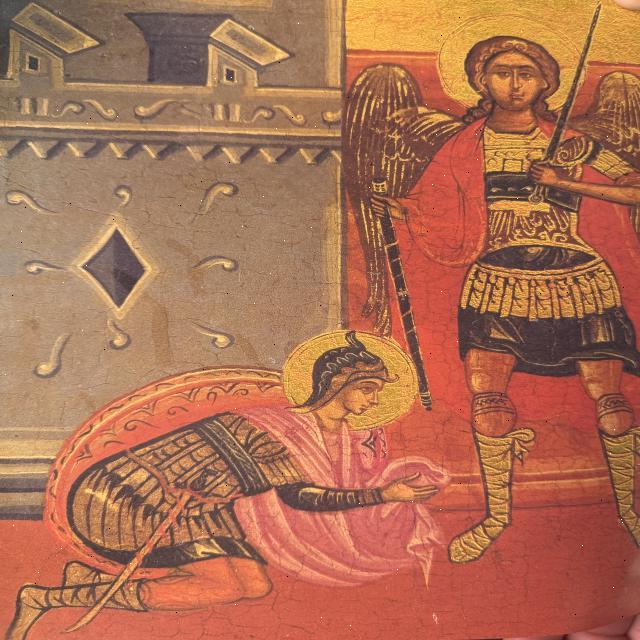angel: (334, 13, 637, 581)
aura: (437, 12, 589, 112), (284, 329, 420, 427)
saint: (14, 330, 426, 640)
sword: (520, 5, 605, 207)
wing: (332, 61, 454, 313), (575, 72, 640, 200)
